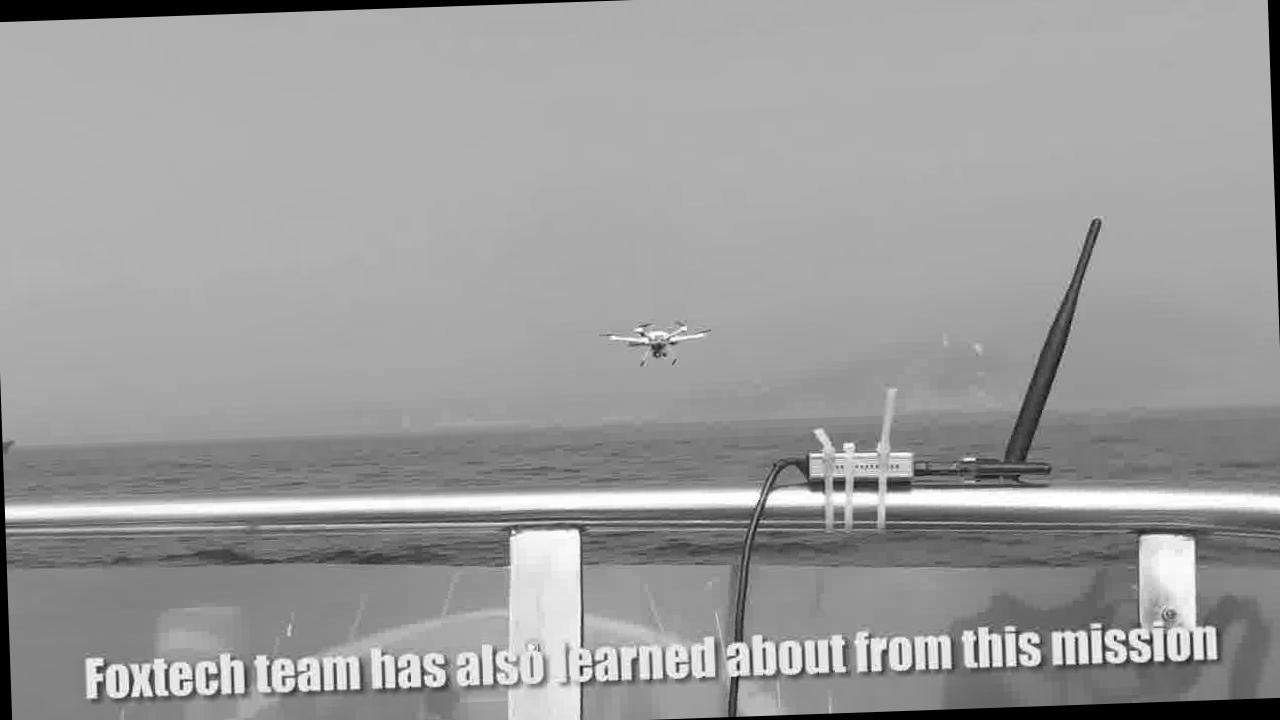drone: (596, 314, 711, 368)
